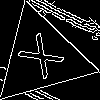X: (16, 32, 74, 88)
